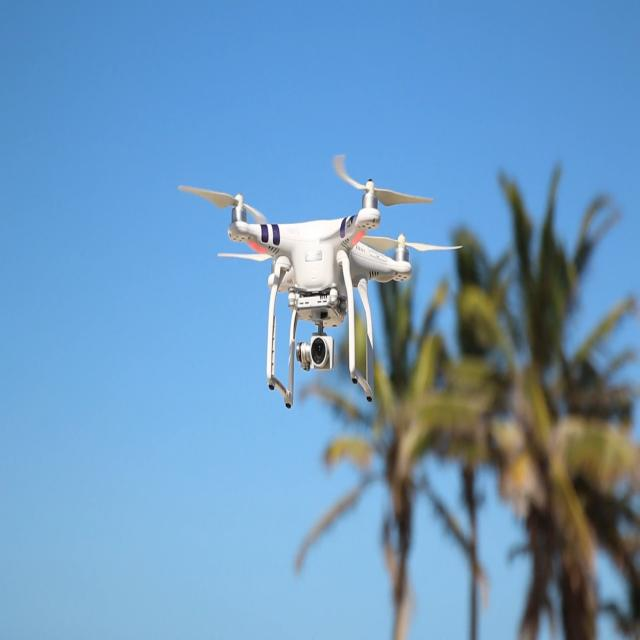Drone: (180, 146, 463, 418)
